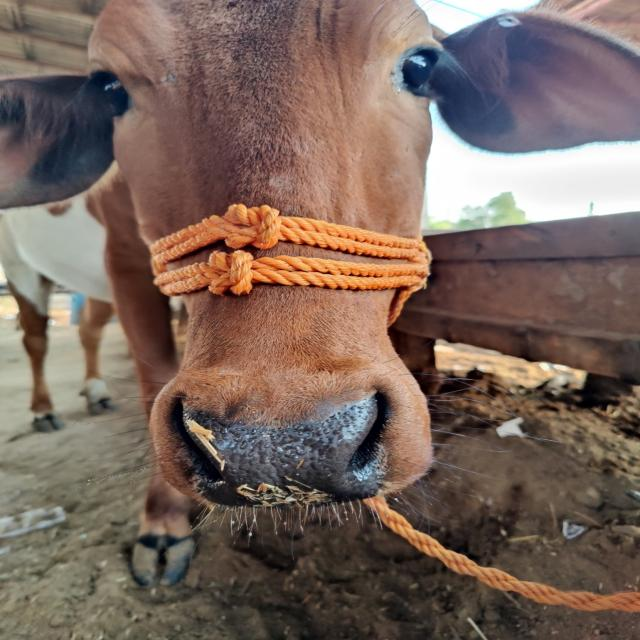muzzles: (170, 386, 410, 512)
